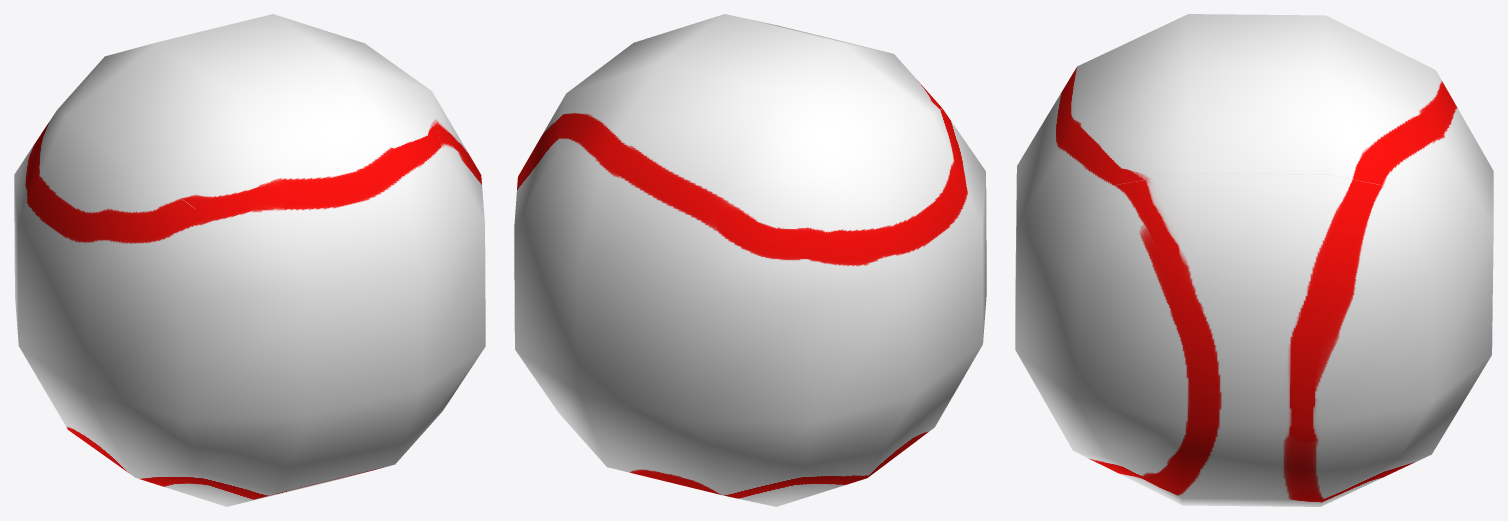
Rendered from baseball.fbx.
The picture shows the model from 3 angles, left to right: view 1: azimuth 30°, elevation 25°; view 2: azimuth 150°, elevation 25°; view 3: azimuth 270°, elevation 25°; orthographic projection. The views are drawn at different scales.
Parts seen in each view (by area): view 1: baseball; view 2: baseball; view 3: baseball.
Boxes of the visible parts, left/top/right/bottom form: baseball: left=14, top=14, right=485, bottom=506; baseball: left=514, top=14, right=986, bottom=506; baseball: left=1015, top=14, right=1493, bottom=506.
Size of the model in its own units: 1.45 by 1.45 by 1.45.
1 material, 1 textured.
